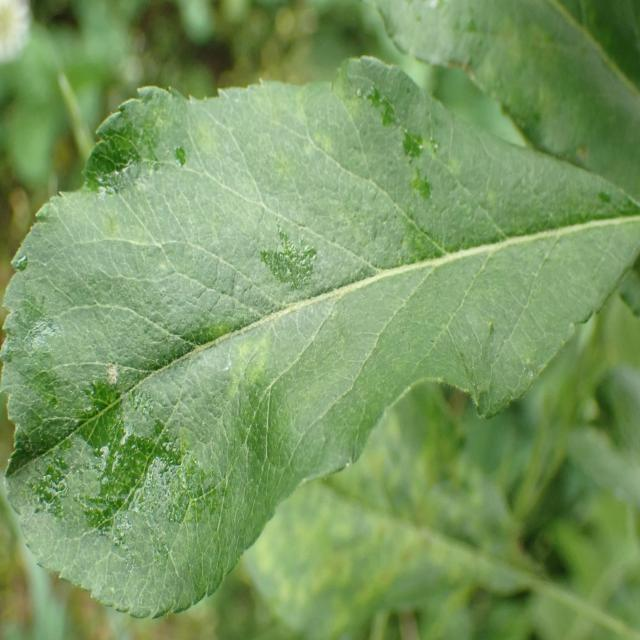scab: (63, 90, 554, 403)
